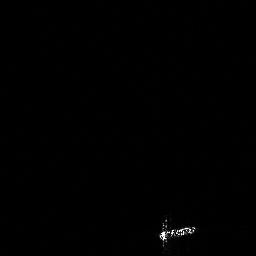ship: (159, 226, 195, 240)
